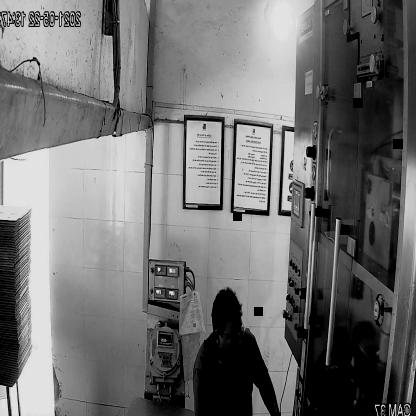goggles: (216, 322, 247, 344)
